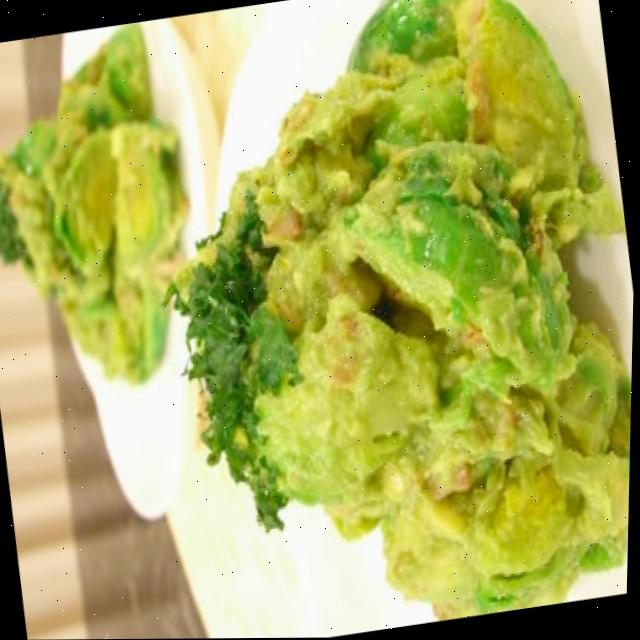蔬菜料理: (143, 0, 640, 639), (0, 12, 263, 540)
